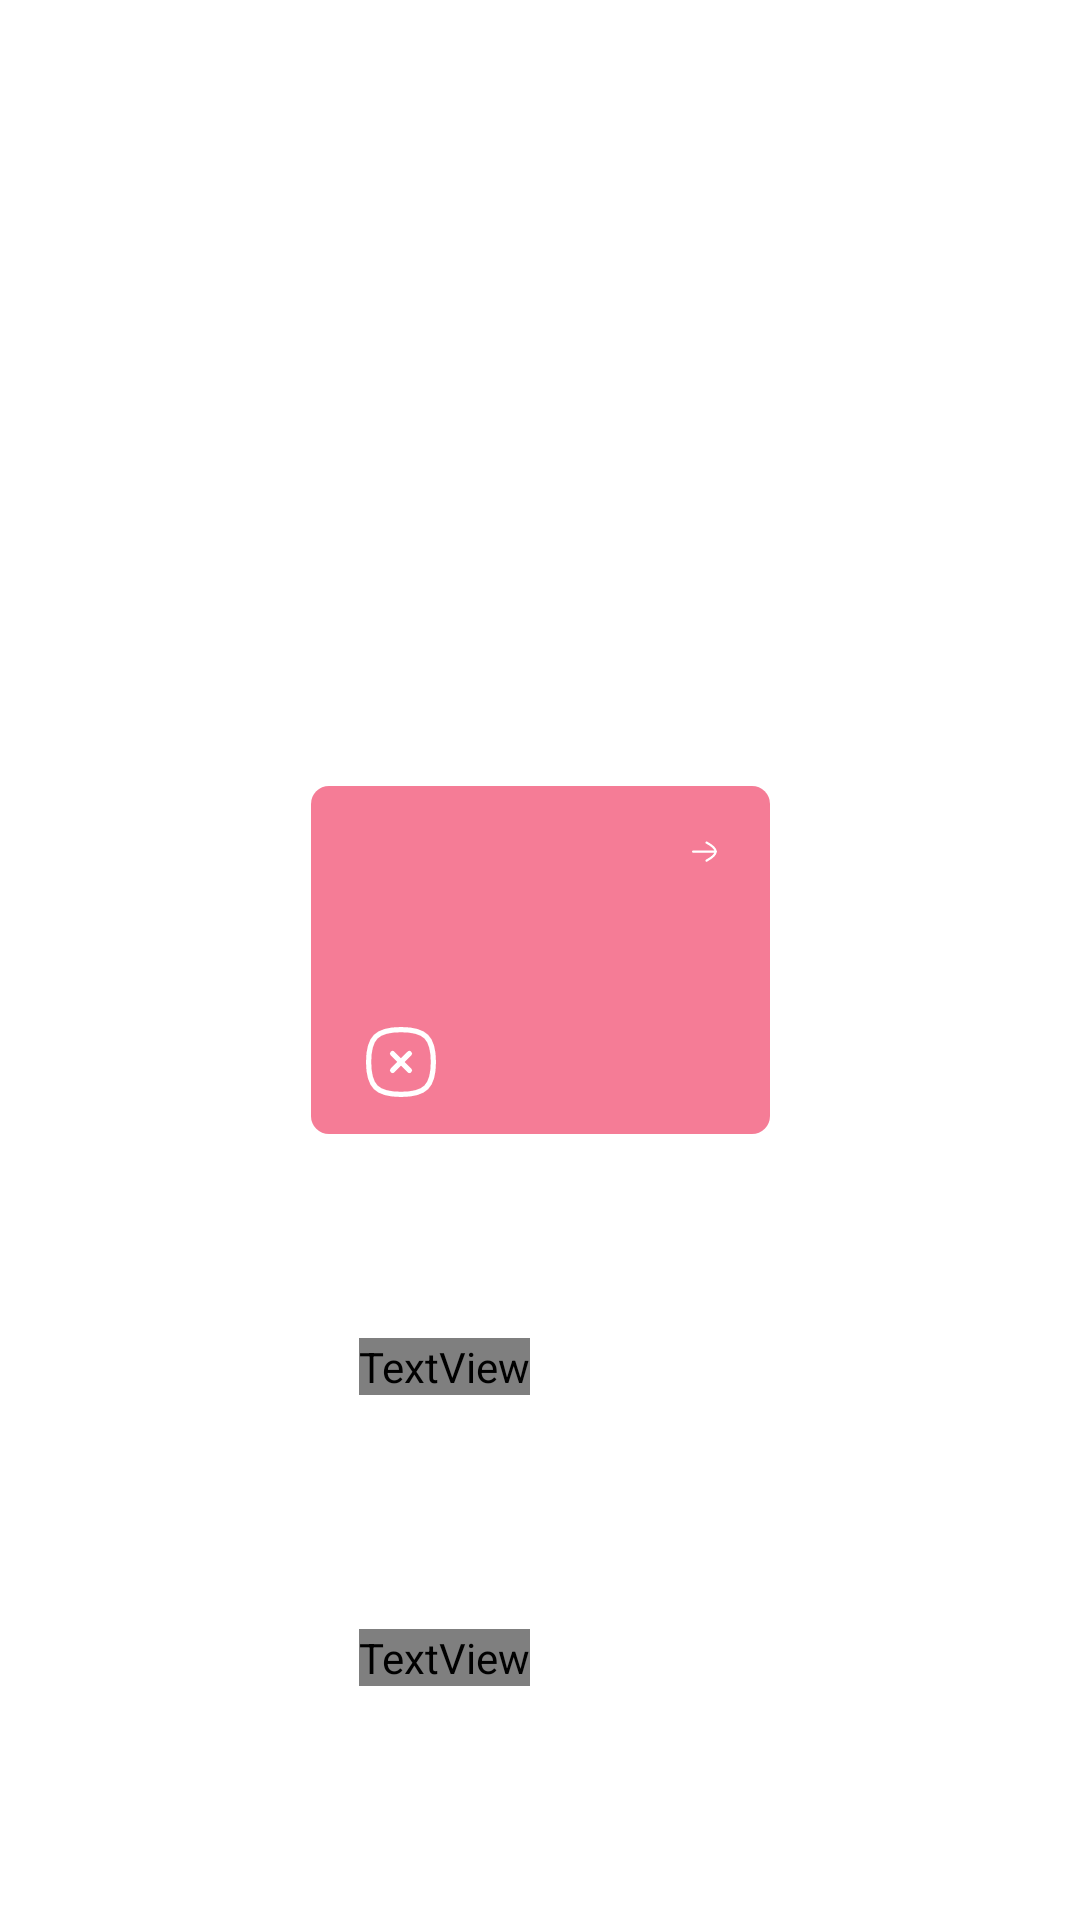

Named icons in this screenshot (1080x1920) and their bounding boxes, (x1, y1, x2, y2):
arrow right: (692, 841, 717, 862)
close: (366, 1027, 436, 1097)
